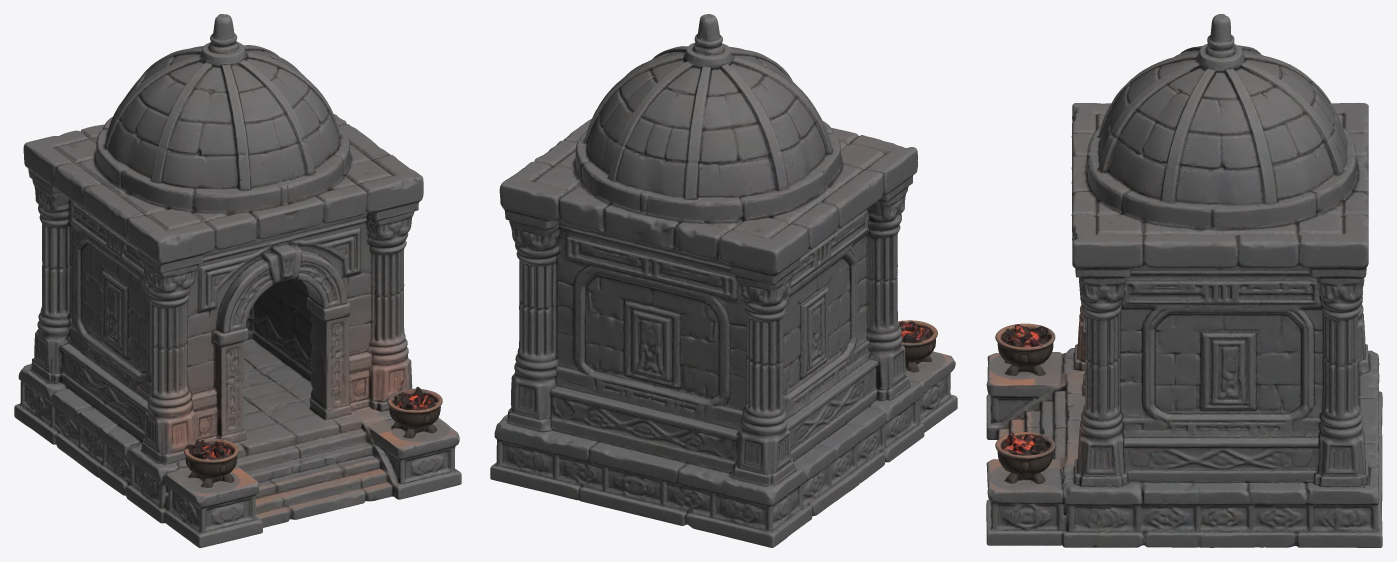
Rendered from temple.glb.
3 renders of one model, left to right at view 1: azimuth 30°, elevation 25°; view 2: azimuth 150°, elevation 25°; view 3: azimuth 270°, elevation 25°, orthographic. The views are drawn at different scales.
Size of the model in its own units: 1.28 by 1.9 by 1.48.
1 material, 1 textured.
